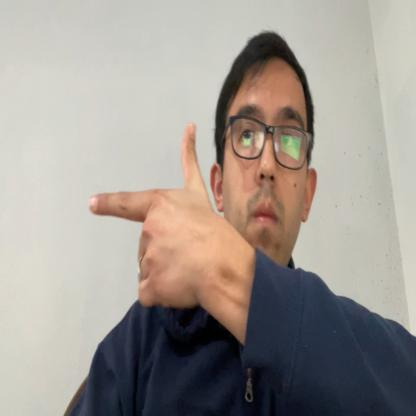G: (88, 122, 203, 309)
